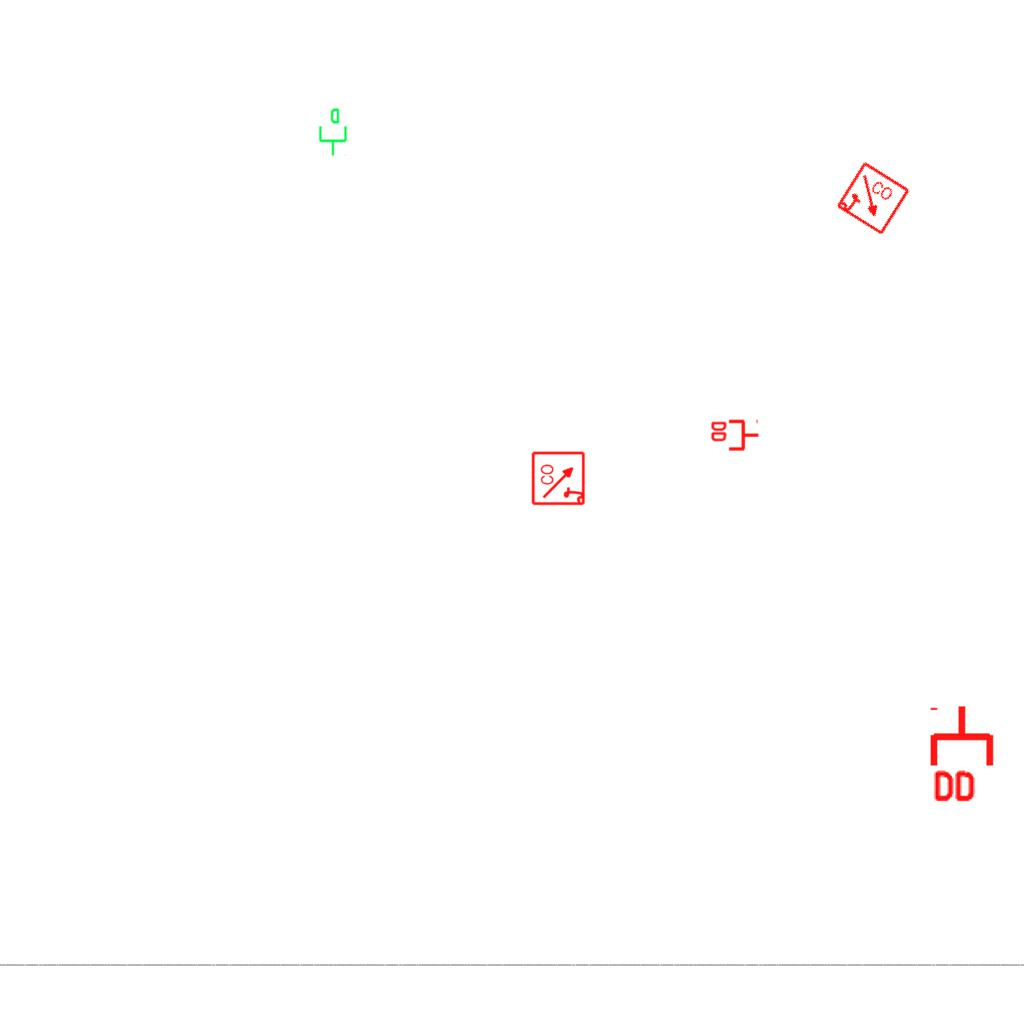Datenanschluss_einfach: (315, 107, 349, 157)
Datenanschluss_zweifach: (929, 703, 998, 806), (709, 419, 760, 453)
ROA_Rauchmelder_optisch_mit_Signalgeber_(Sockelsirene): (834, 160, 912, 238), (531, 450, 587, 506)
